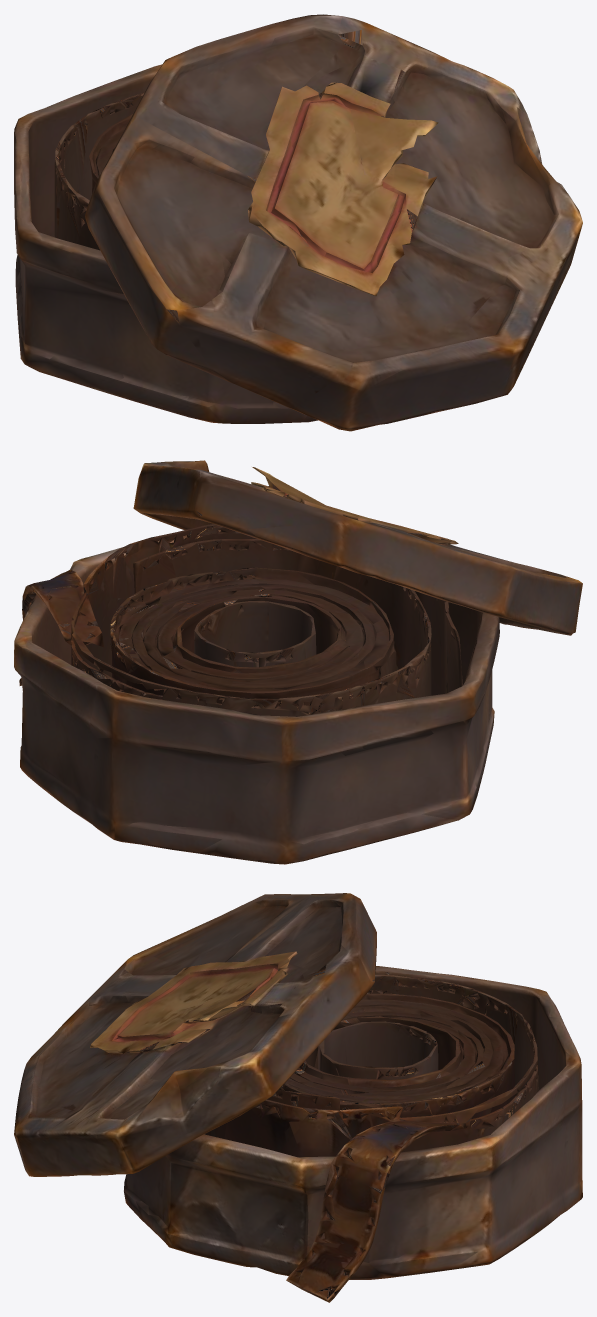
Rendered from film-can.glb.
The picture shows the model from 3 angles, top to bottom: view 1: azimuth 30°, elevation 25°; view 2: azimuth 150°, elevation 25°; view 3: azimuth 270°, elevation 25°; orthographic projection. The views are drawn at different scales.
Visible parts, largest first — view 1: SM_FilmCan; view 2: SM_FilmCan; view 3: SM_FilmCan.
Part boxes in pixels (x1,y1,x2,y2): SM_FilmCan: [14, 14, 582, 431]; SM_FilmCan: [14, 460, 582, 864]; SM_FilmCan: [14, 893, 582, 1302].
Size of the model in its own units: 0.4607 by 0.2505 by 0.5.
1 material, 1 textured.
